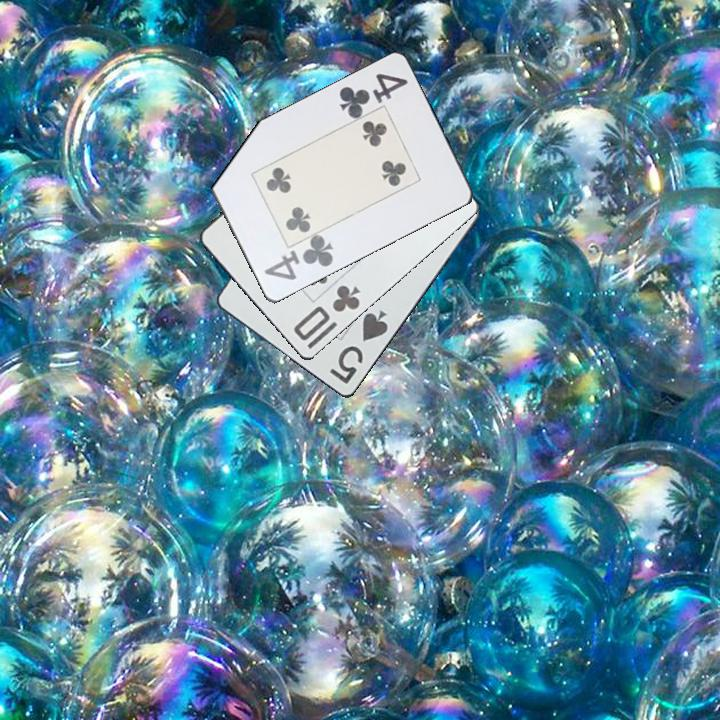4c: (260, 232, 336, 284), (335, 69, 411, 121)
5s: (325, 307, 391, 388)
Tc: (290, 280, 364, 344)
